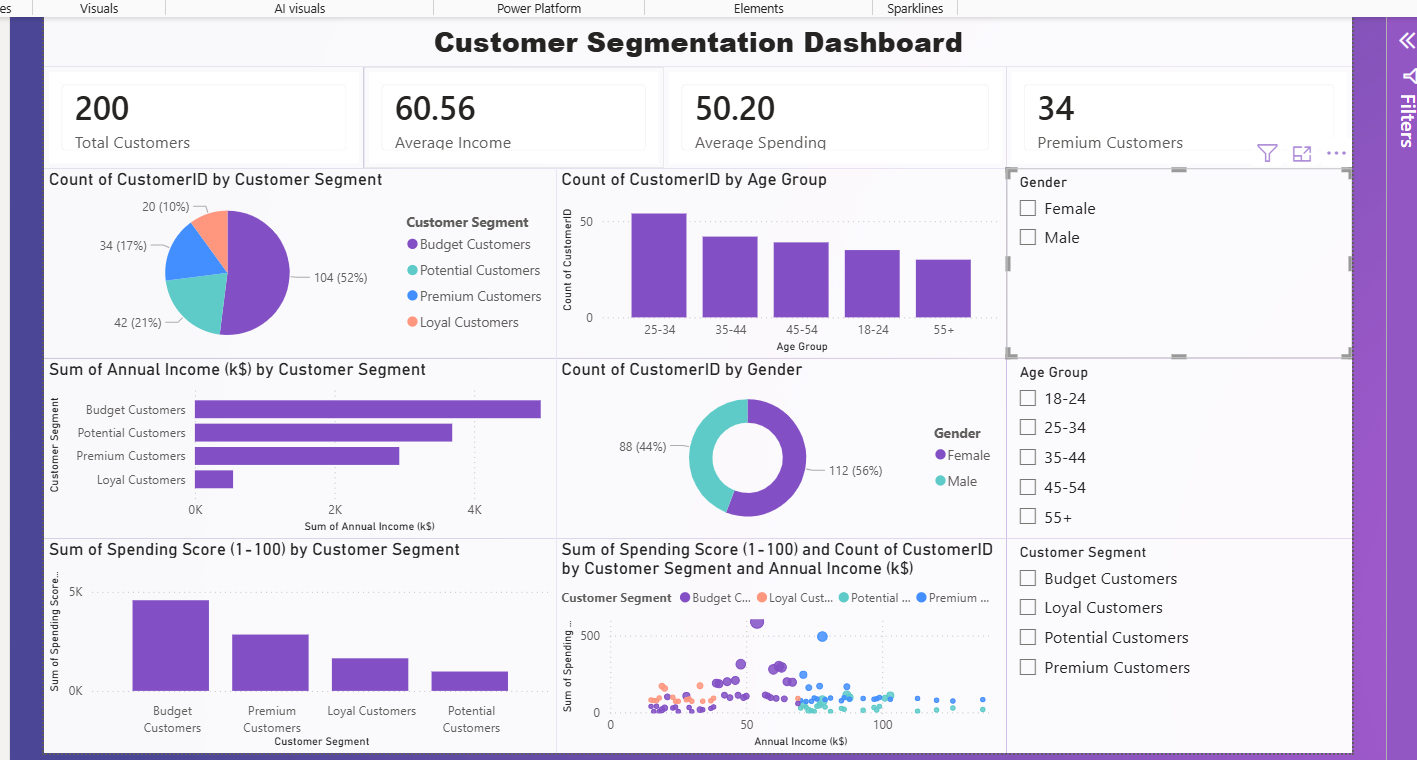

Layout of this report page (visuals, bound fields, positions):
{"tool":"powerbi","page":{"name":"Page 1","canvas":[1280,720],"ordinal":0},"visuals":[{"type":"cardVisual","fields":{"Data":["Mall_Customers.Total Customers"]},"box":[0,48.9,313,99],"z":0},{"type":"cardVisual","fields":{"Data":["Mall_Customers.Average Income"]},"box":[313,48.9,293.5,99],"z":1000},{"type":"cardVisual","fields":{"Data":["Mall_Customers.Average Spending"]},"box":[606.5,48.9,335.1,99],"z":2000},{"type":"cardVisual","fields":{"Data":["Mall_Customers.Premium Customers"]},"box":[941.6,48.9,338.7,99],"z":3000},{"type":"pieChart","fields":{"Category":["Mall_Customers.Customer Segment"],"Y":["CountNonNull(Mall_Customers.CustomerID)"]},"box":[0,148,501.4,185.9],"z":4000},{"type":"clusteredBarChart","fields":{"Category":["Mall_Customers.Customer Segment"],"Y":["Sum(Mall_Customers.Annual Income (k$))"]},"box":[0,333.8,501.4,176.1],"z":5000},{"type":"clusteredColumnChart","fields":{"Category":["Mall_Customers.Customer Segment"],"Y":["Sum(Mall_Customers.Spending Score (1-100))"]},"box":[0,509.9,501.4,210.3],"z":6000},{"type":"columnChart","fields":{"Category":["Mall_Customers.Age Group"],"Y":["CountNonNull(Mall_Customers.CustomerID)"]},"box":[501.4,148,440.2,185.9],"z":7000},{"type":"donutChart","fields":{"Category":["Mall_Customers.Gender"],"Y":["CountNonNull(Mall_Customers.CustomerID)"]},"box":[501.4,333.8,440.2,176.1],"z":8000},{"type":"scatterChart","fields":{"Y":["Sum(Mall_Customers.Spending Score (1-100))"],"X":["Mall_Customers.Annual Income (k$)"],"Series":["Mall_Customers.Customer Segment"],"Size":["CountNonNull(Mall_Customers.CustomerID)"]},"box":[501.4,509.9,440.2,210.3],"z":9000},{"type":"slicer","fields":{"Values":["Mall_Customers.Gender"]},"box":[941.6,148,338.7,185.9],"z":10000},{"type":"slicer","fields":{"Values":["Mall_Customers.Age Group"]},"box":[941.6,333.8,338.7,176.1],"z":11000},{"type":"slicer","fields":{"Values":["Mall_Customers.Customer Segment"]},"box":[941.6,509.9,338.7,210.3],"z":12000},{"type":"textbox","box":[0,0,1280.3,48.9],"z":12001}]}

Visuals, with their boxes on the page's 1280x720 design canvas (x1, y1, x2, y2). These are canvas units, not pixel positions in the 1417x760 screenshot, which may show the page scaled, cropped or inside an application window:
cardVisual - Mall_Customers.Total Customers: (left=0, top=49, right=313, bottom=148)
cardVisual - Mall_Customers.Average Income: (left=313, top=49, right=606, bottom=148)
cardVisual - Mall_Customers.Average Spending: (left=606, top=49, right=942, bottom=148)
cardVisual - Mall_Customers.Premium Customers: (left=942, top=49, right=1280, bottom=148)
pieChart - Mall_Customers.Customer Segment x CountNonNull(Mall_Customers.CustomerID): (left=0, top=148, right=501, bottom=334)
clusteredBarChart - Mall_Customers.Customer Segment x Sum(Mall_Customers.Annual Income (k$)): (left=0, top=334, right=501, bottom=510)
clusteredColumnChart - Mall_Customers.Customer Segment x Sum(Mall_Customers.Spending Score (1-100)): (left=0, top=510, right=501, bottom=720)
columnChart - Mall_Customers.Age Group x CountNonNull(Mall_Customers.CustomerID): (left=501, top=148, right=942, bottom=334)
donutChart - Mall_Customers.Gender x CountNonNull(Mall_Customers.CustomerID): (left=501, top=334, right=942, bottom=510)
scatterChart - Sum(Mall_Customers.Spending Score (1-100)) x Mall_Customers.Annual Income (k$): (left=501, top=510, right=942, bottom=720)
slicer - Mall_Customers.Gender: (left=942, top=148, right=1280, bottom=334)
slicer - Mall_Customers.Age Group: (left=942, top=334, right=1280, bottom=510)
slicer - Mall_Customers.Customer Segment: (left=942, top=510, right=1280, bottom=720)
textbox: (left=0, top=0, right=1280, bottom=49)
